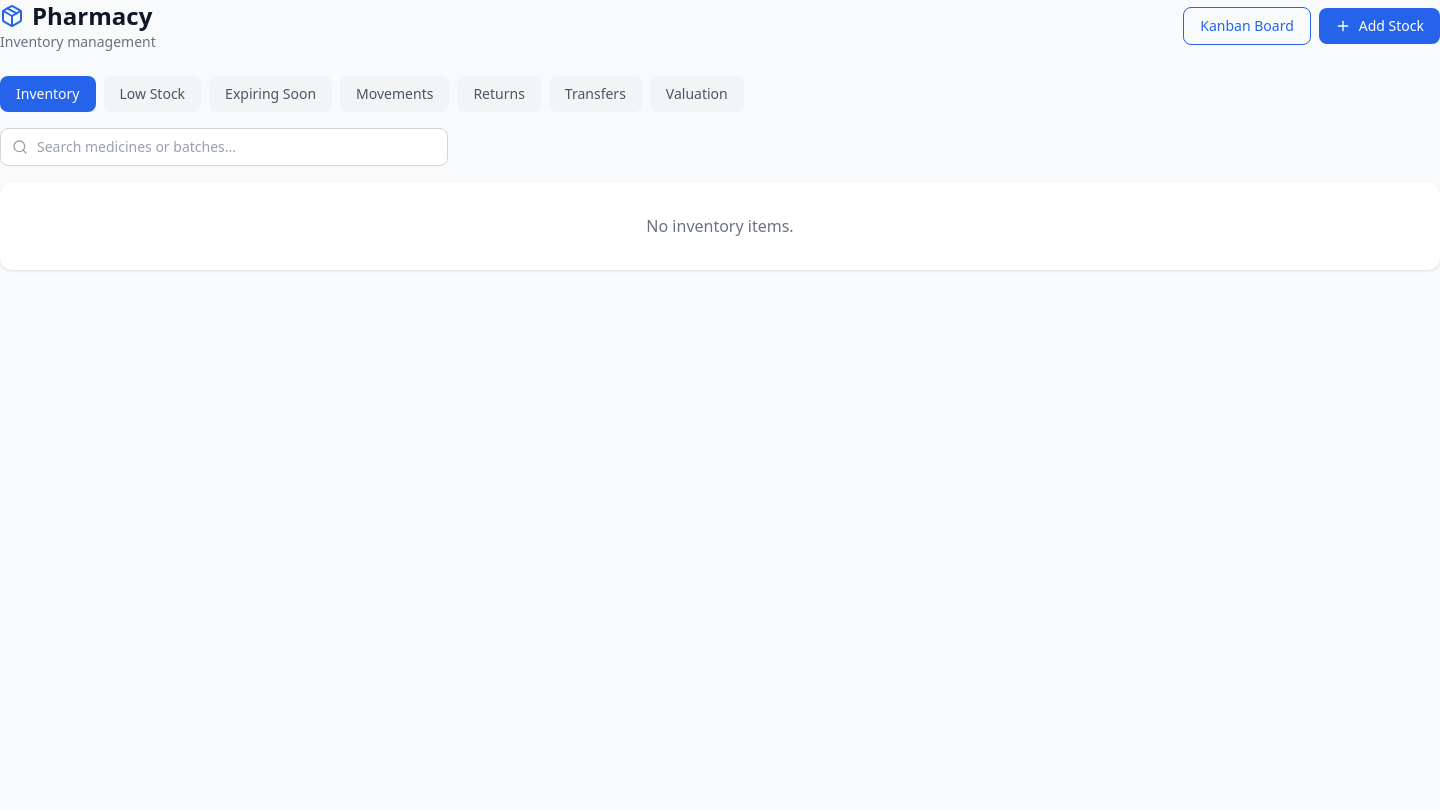
it: PharmacyPage (inventory dashboard — full surface) › AddStock modal - selecting a medicine auto-fills the latest unit cost
This screenshot has width=1440, height=810.
Expected: the text "No inventory items." is shown, [646,215,794,237]
Click the button "Add Stock" at (1379, 26), box [1319,8,1439,44]
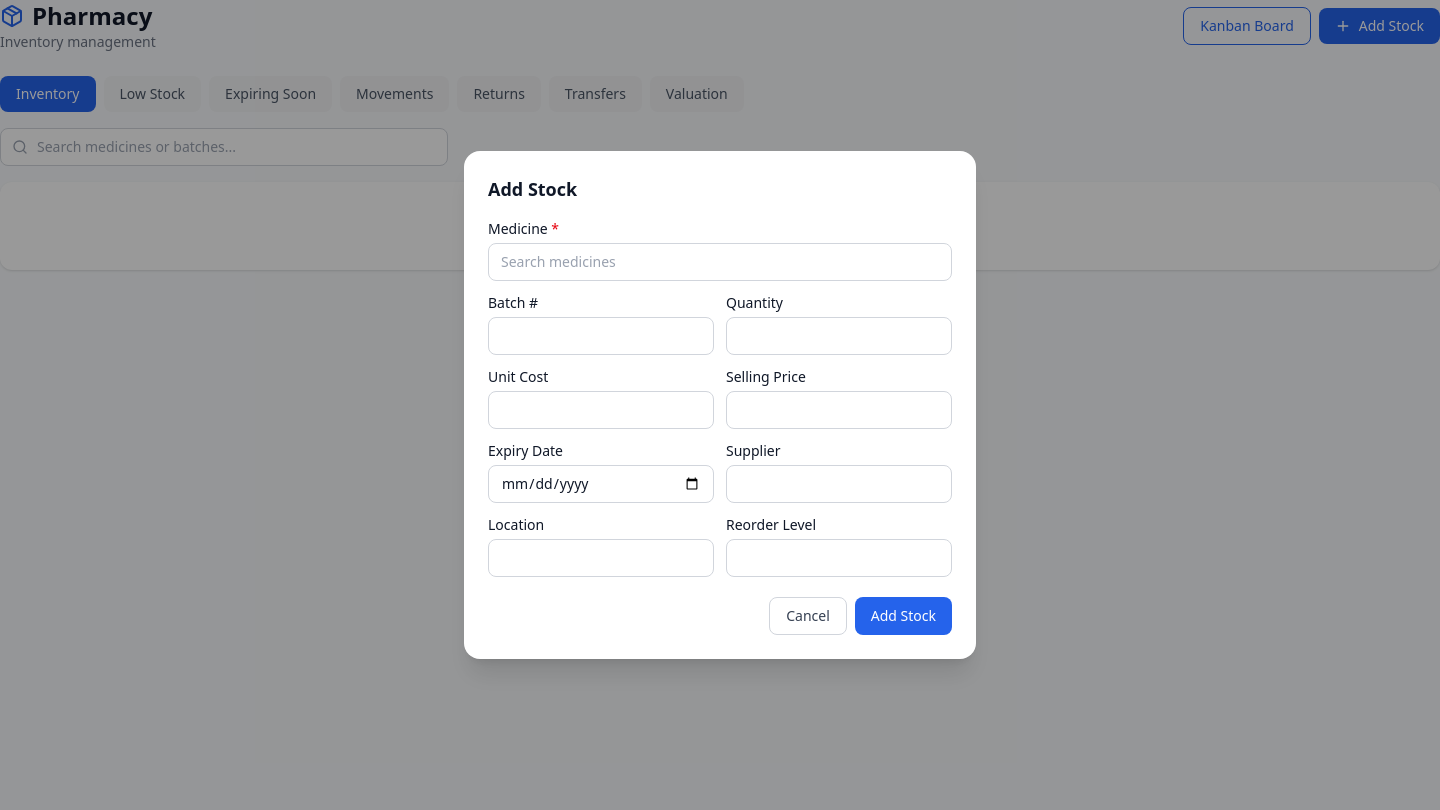
Type "Amlo" into the field with test id "add-stock-medicine-search" at (720, 262), box [488,243,952,281]
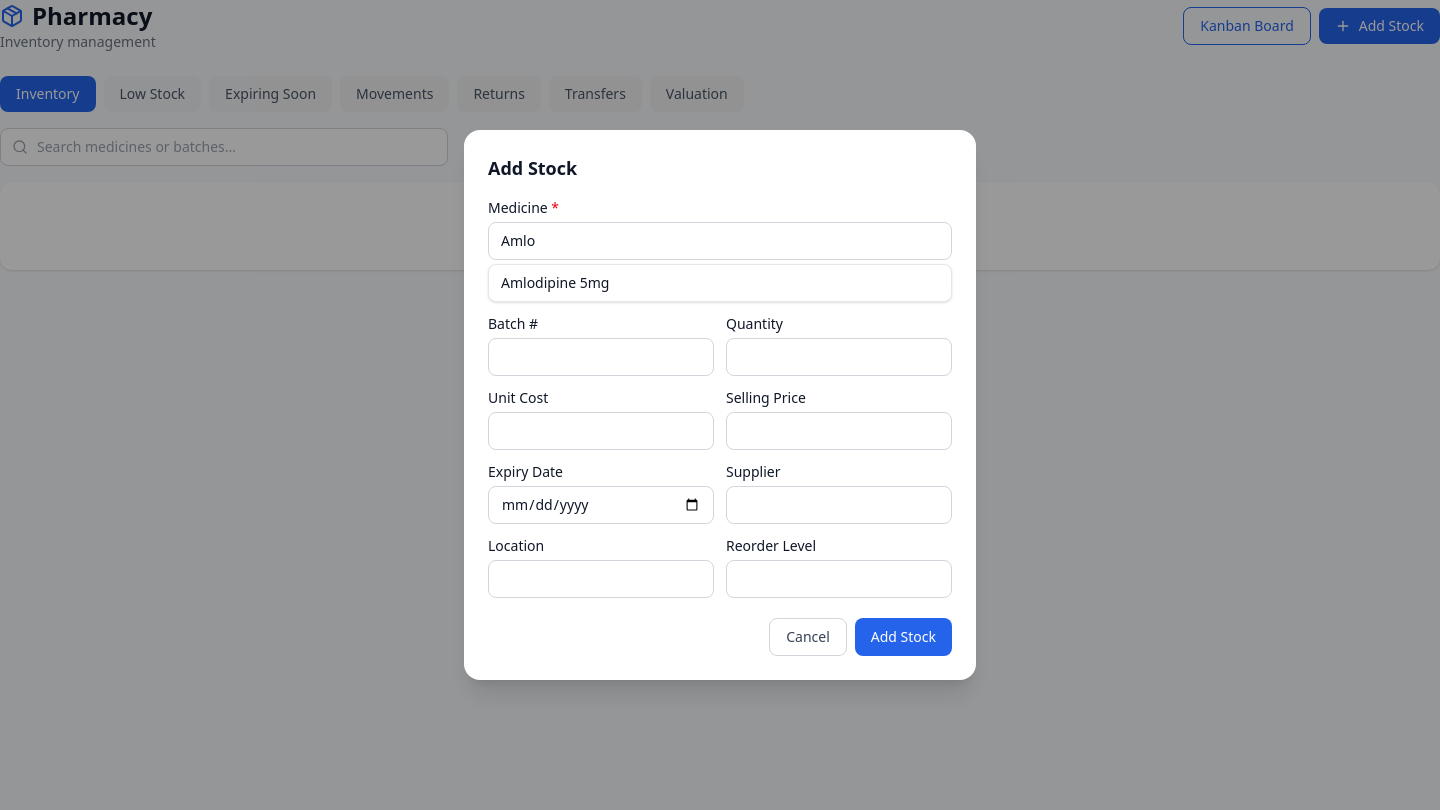
Click the button "Amlodipine 5mg" at (555, 282), box [489,265,951,301]
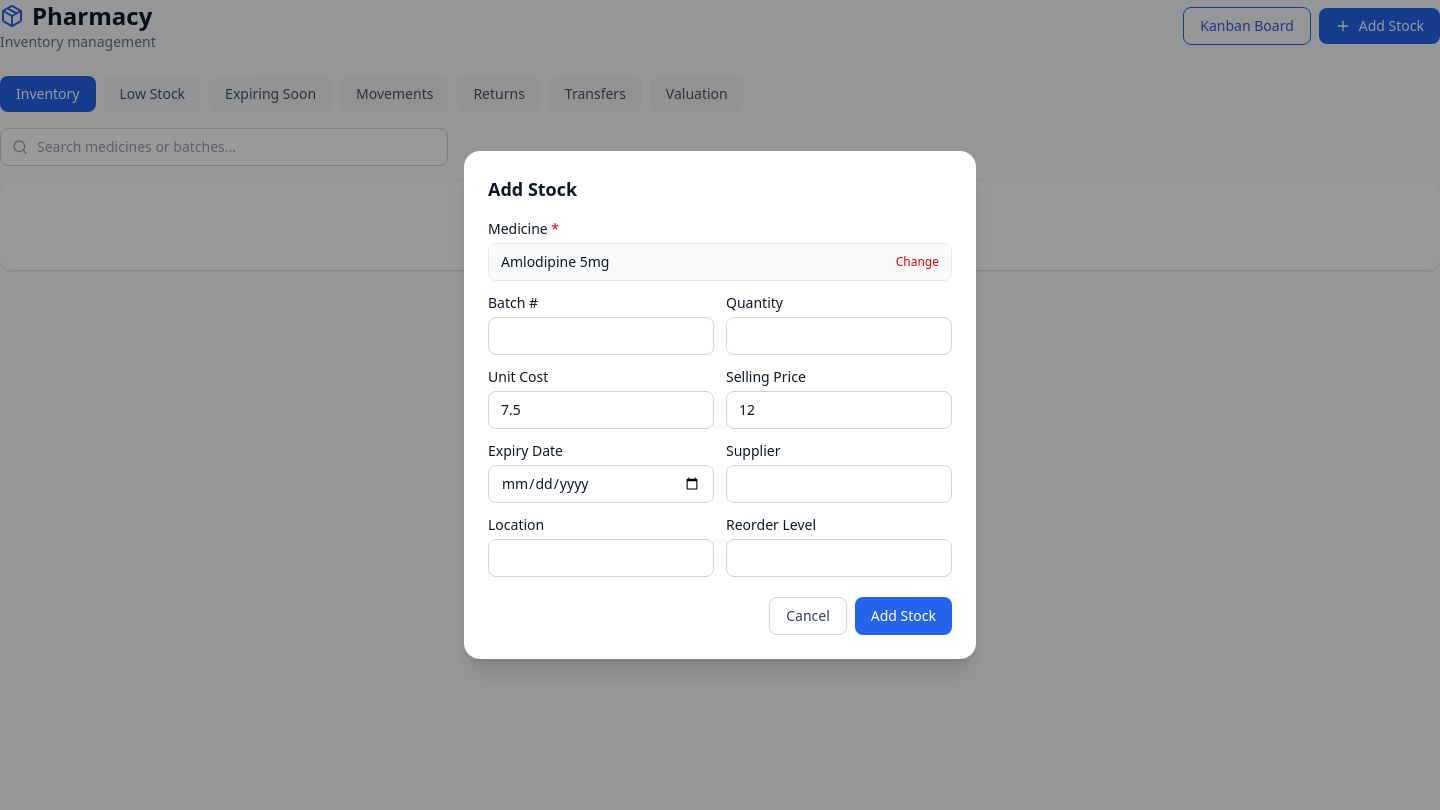
Now the number field with test id "add-stock-unit-cost" holds "7.5", box [488,391,714,429]
Now the number field with test id "add-stock-selling-price" holds "12", box [726,391,952,429]
